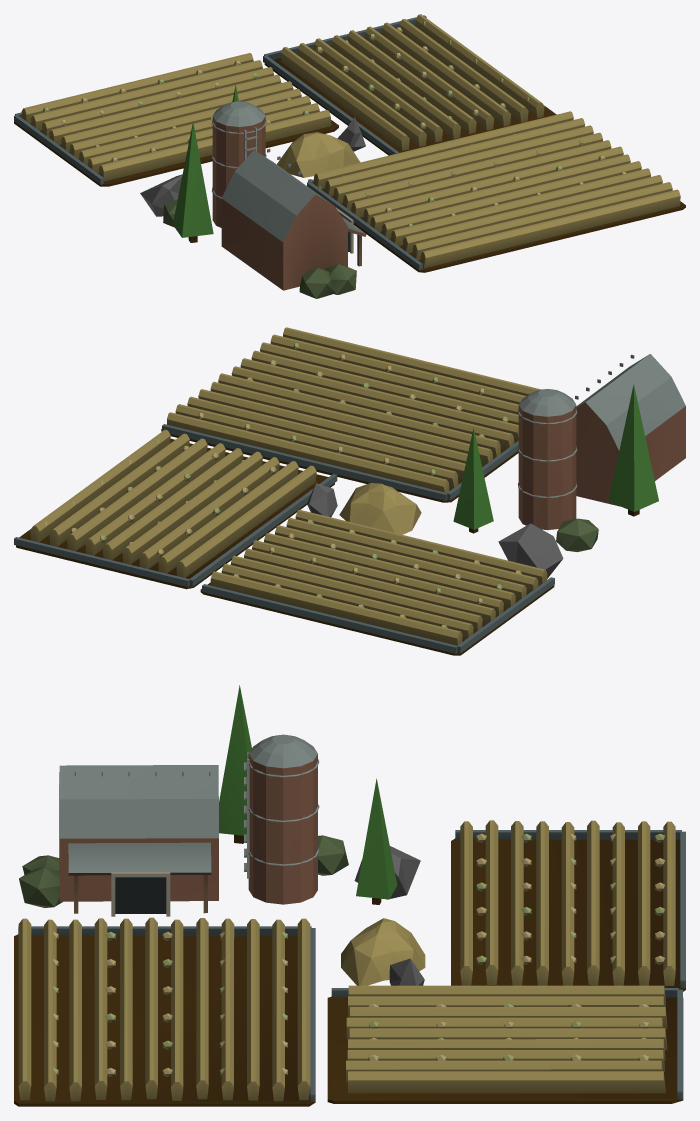
The model's file is farmland-detailed.glb.
3 views of the same model, one above another, from view 1: azimuth 30°, elevation 25°; view 2: azimuth 150°, elevation 25°; view 3: azimuth 270°, elevation 25° (orthographic). The views are drawn at different scales.
Bounding box in the file's own units: 0.9313 × 0.3031 × 0.9756.
